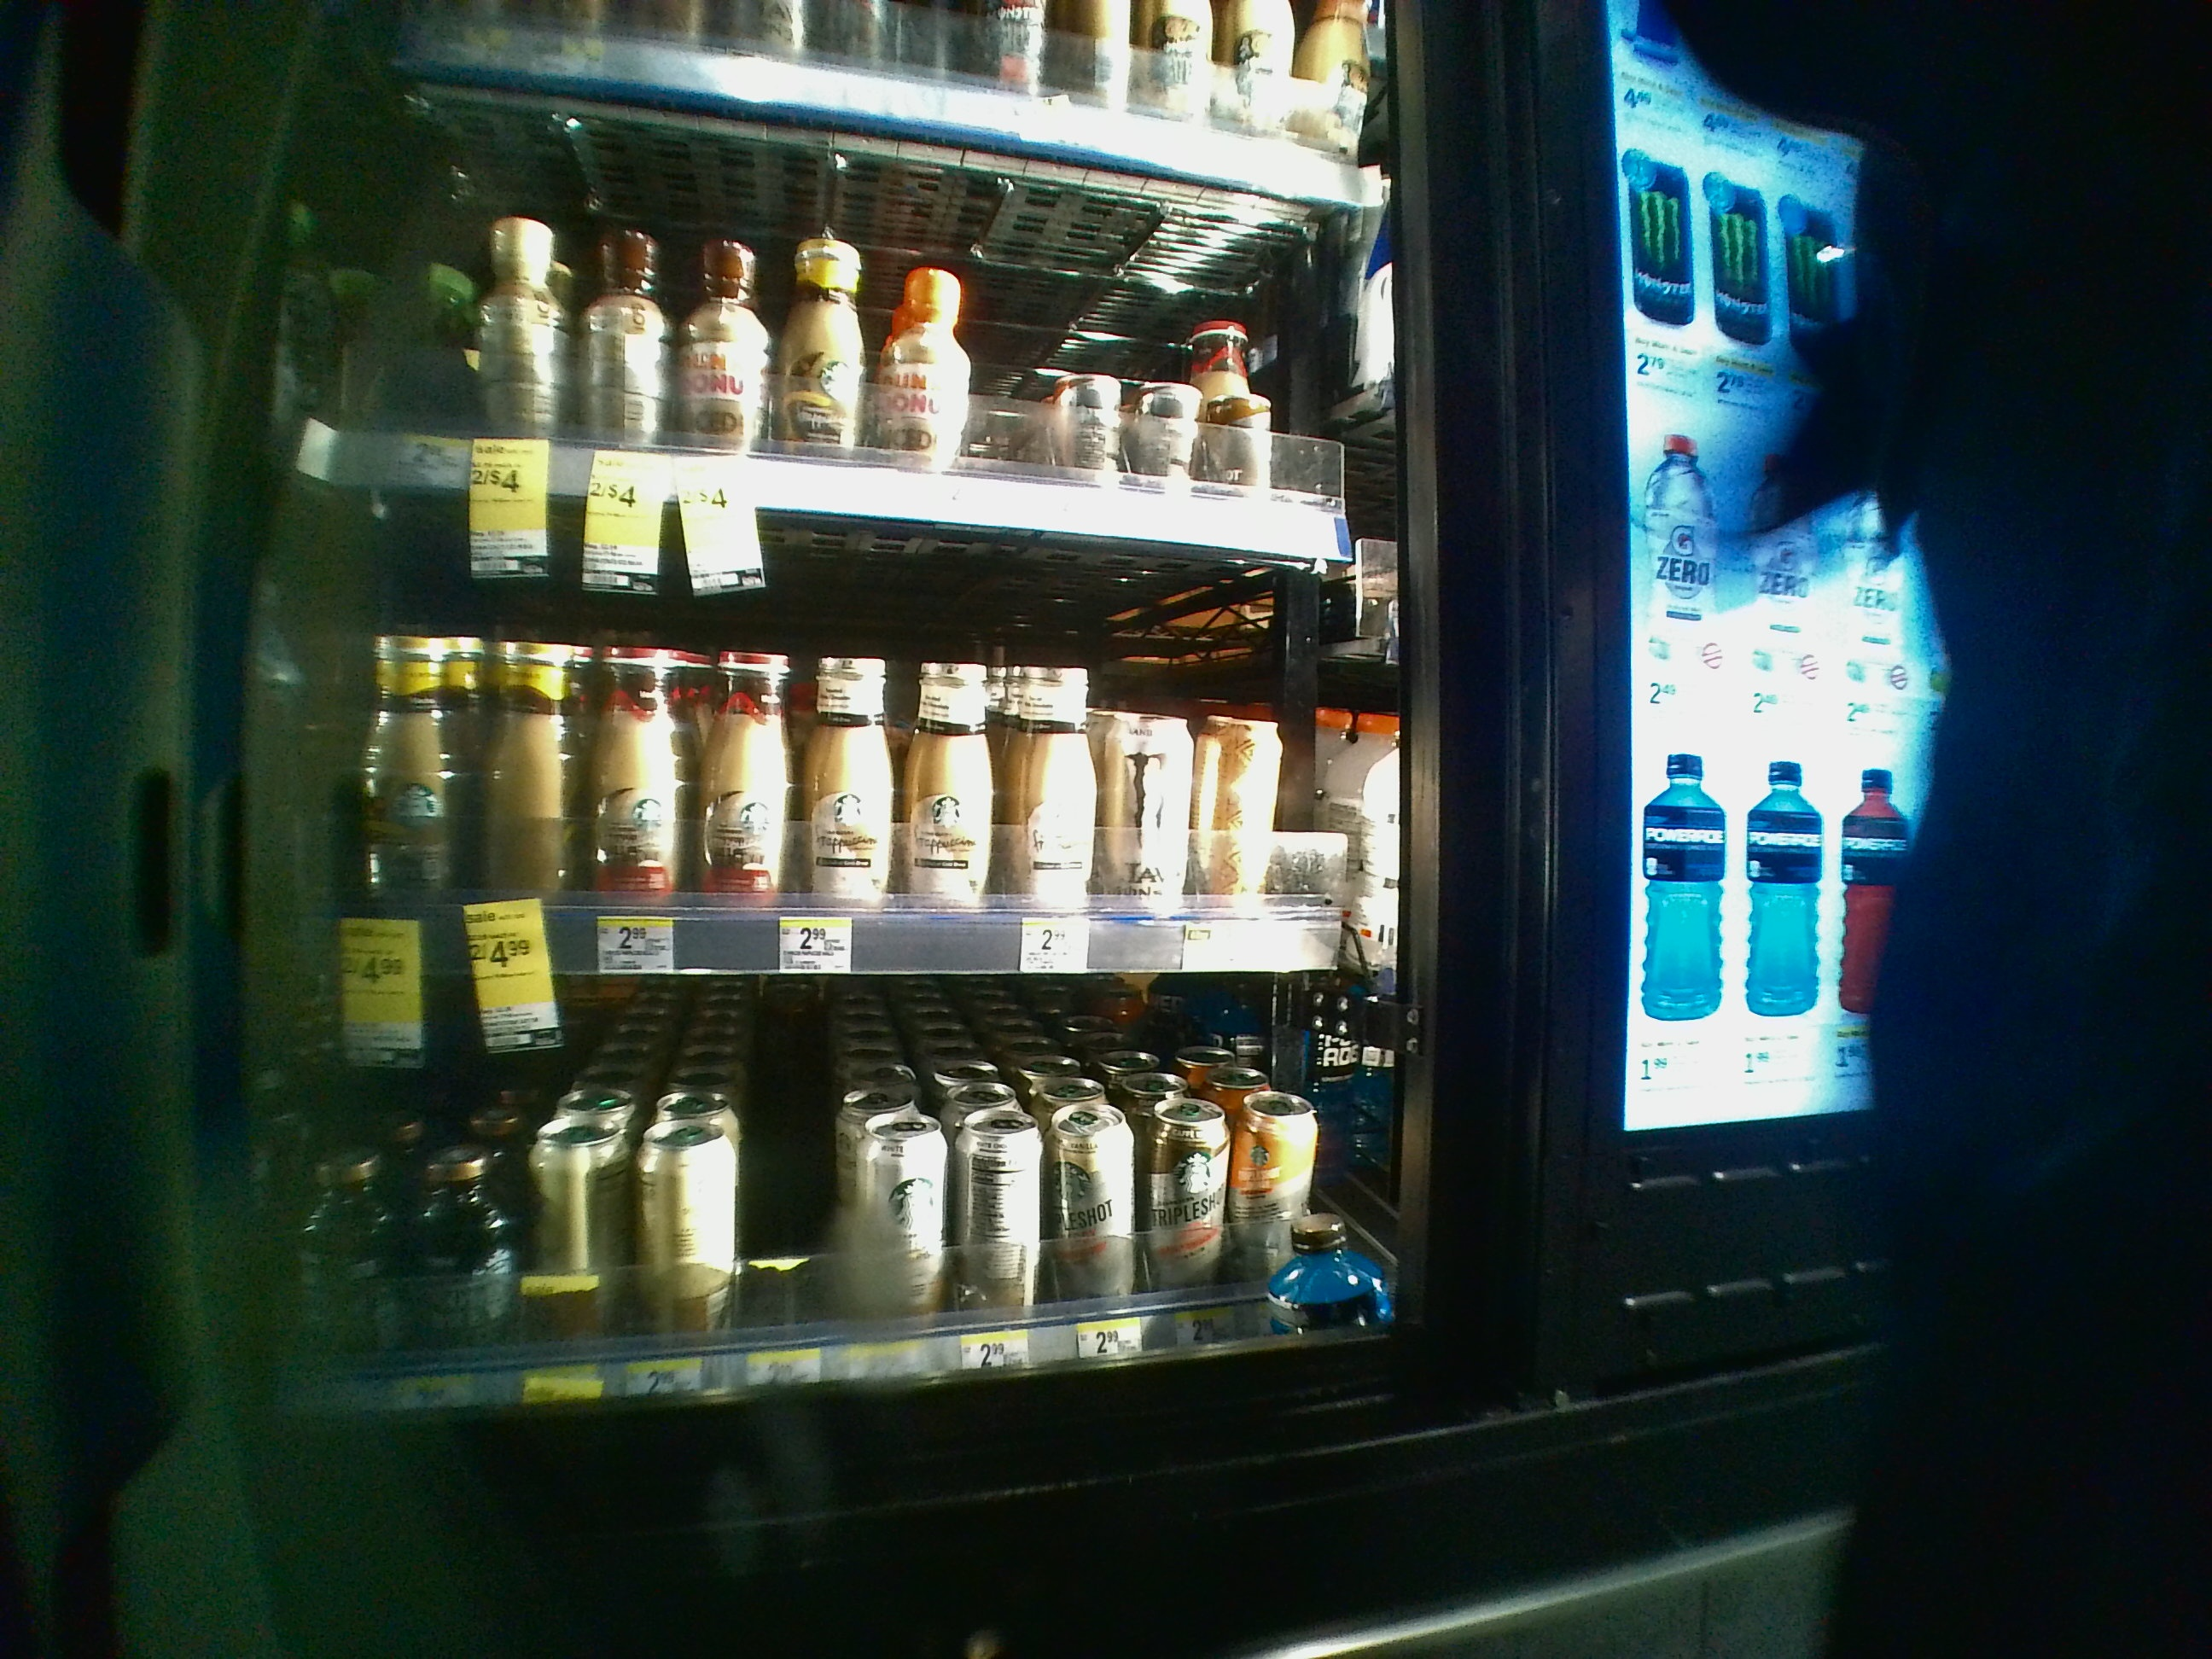shelf: (310, 967, 1425, 1382)
